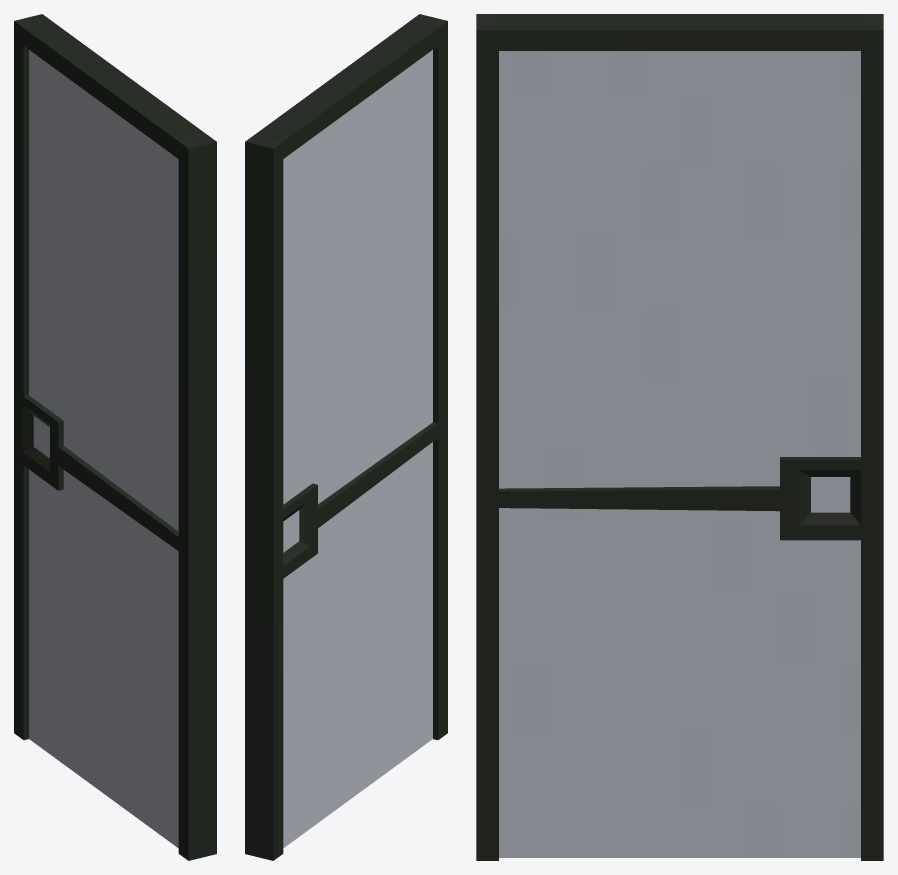
Rendered from DOOOR1.fbx.
3 views of the same model, side by side, from view 1: azimuth 30°, elevation 25°; view 2: azimuth 150°, elevation 25°; view 3: azimuth 270°, elevation 25° (orthographic). The views are drawn at different scales.
Parts seen in each view (by area): view 1: Cube; view 2: Cube; view 3: Cube.
Part boxes in pixels (box(x1,y1,x2,y2)): Cube: box(14, 14, 216, 860); Cube: box(245, 14, 447, 860); Cube: box(476, 14, 883, 860).
Bounding box in the file's own units: 19.26 × 460 × 204.
Materials: 2 (2 with a texture image).
